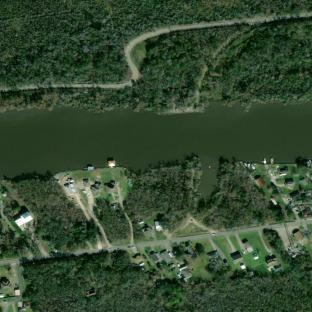Floresta: (0, 19, 312, 114), (0, 0, 312, 86), (23, 230, 312, 312), (124, 156, 282, 230), (9, 177, 105, 250), (94, 199, 130, 242)
